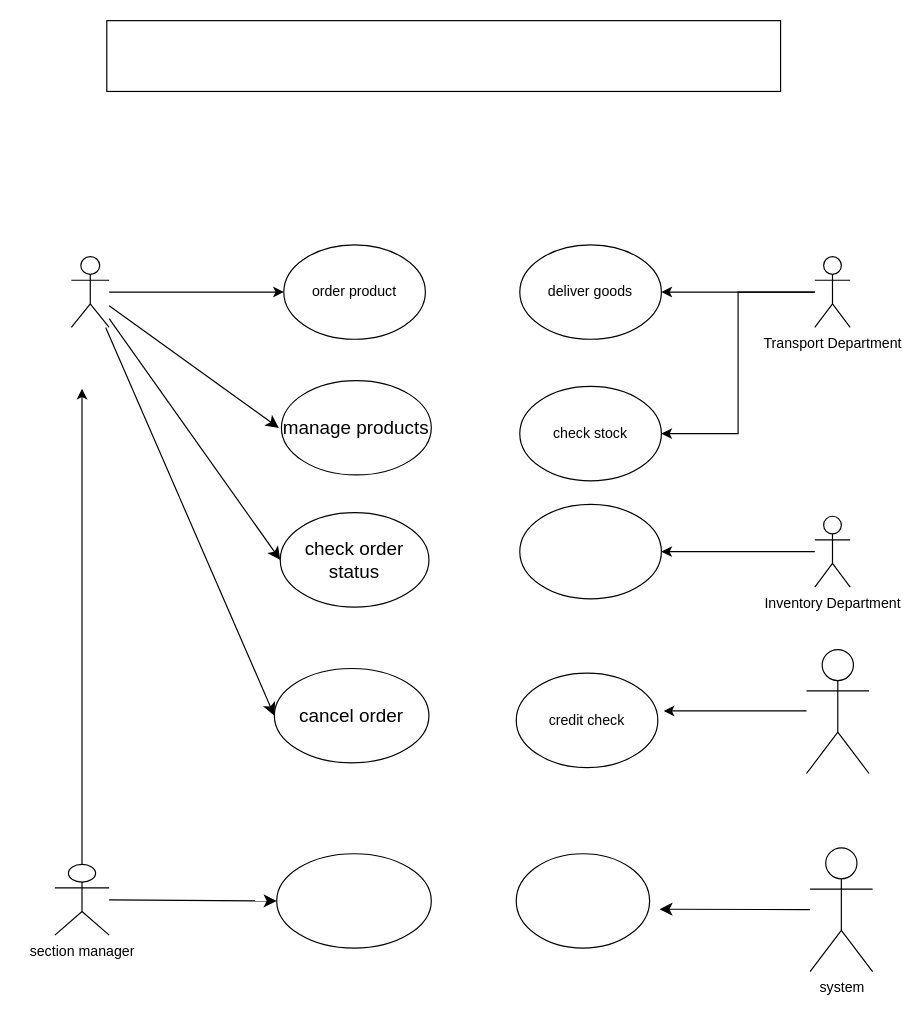
Some shapes in this 922 by 1017 pixel diagram are drawn without their labels. Each missing label, with the centre of its shape:
"archive orders" goes at [582,900].
"Finance Department" goes at [837,710].
"generate reports" goes at [353,900].
"GOLDENSMILE ORDER FULFILLMENT SYSTEM" goes at [443,55].
"order processing clerk" goes at [89,291].
"replenish stock" goes at [590,551].
